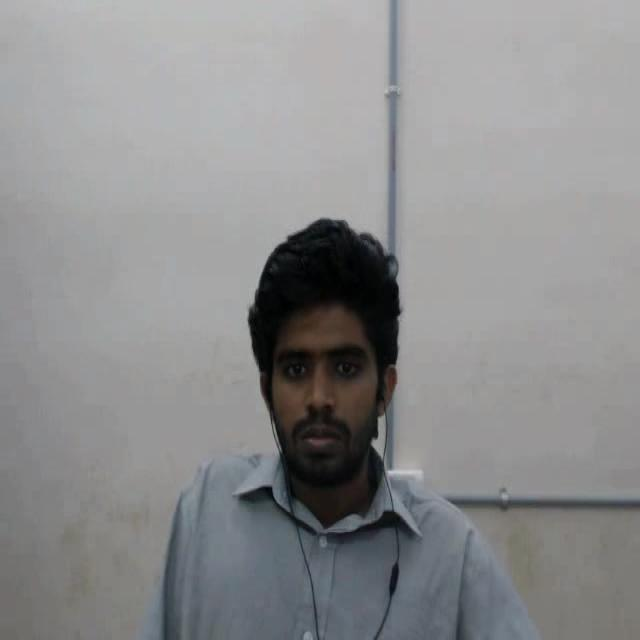Engaged: (236, 209, 435, 498)
